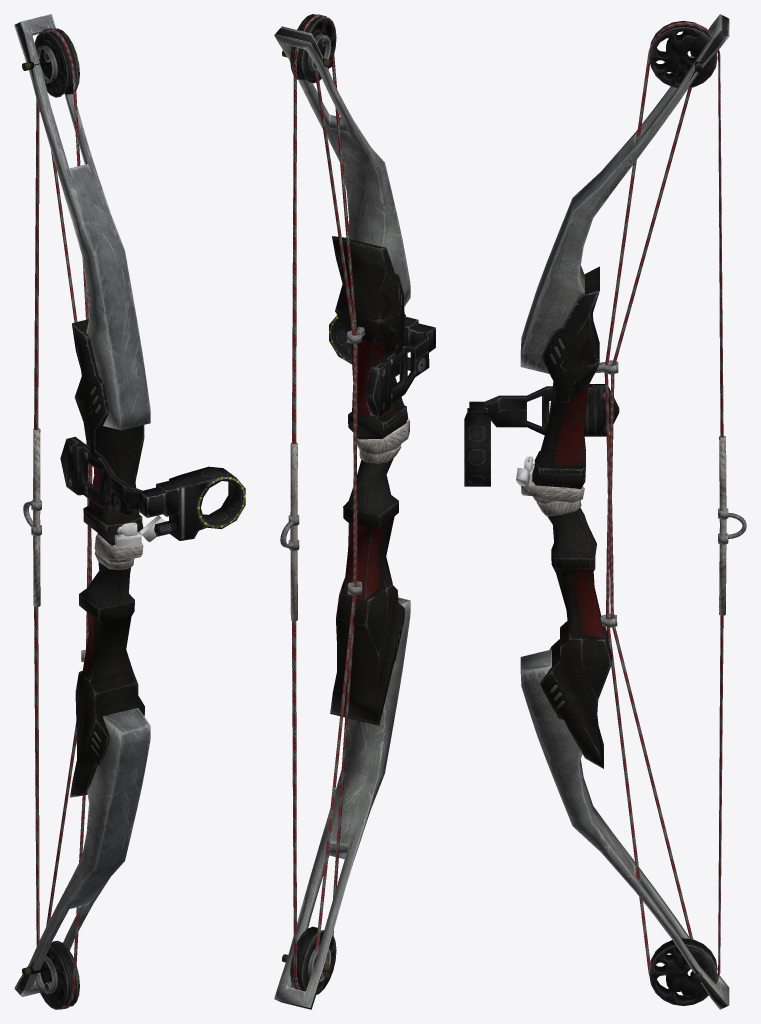
File: Bow_compound.obj
The picture shows the model from 3 angles, left to right: view 1: azimuth 30°, elevation 25°; view 2: azimuth 150°, elevation 25°; view 3: azimuth 270°, elevation 25°; orthographic projection.
Bounding box in the file's own units: 0.2828 × 2.44 × 0.6351.
